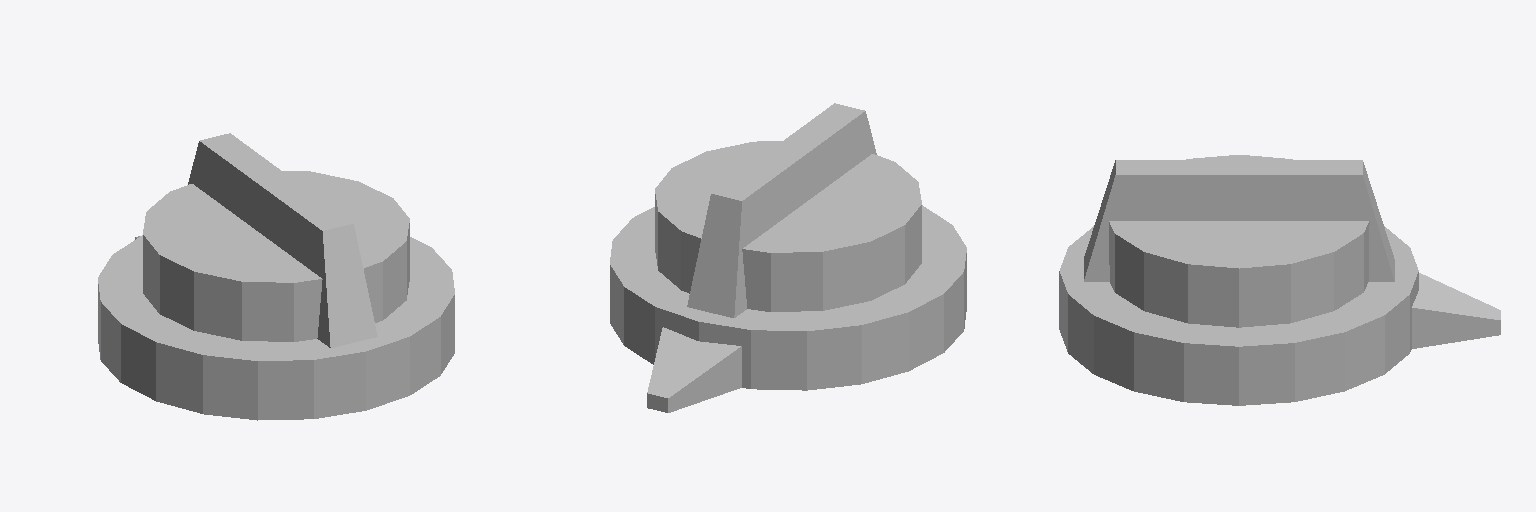
Rendered from key.obj.
3 views of the same model, side by side, from view 1: azimuth 30°, elevation 25°; view 2: azimuth 150°, elevation 25°; view 3: azimuth 270°, elevation 25° (orthographic).
Parts seen in each view (by area): view 1: Object_2, Object_3; view 2: Object_2, Object_3; view 3: Object_2, Object_3.
Part boxes in pixels (left/top/right/bottom): Object_2: left=98, top=133, right=454, bottom=420; Object_3: left=135, top=171, right=409, bottom=341; Object_2: left=610, top=103, right=966, bottom=390; Object_3: left=647, top=141, right=921, bottom=412; Object_2: left=1059, top=160, right=1418, bottom=405; Object_3: left=1109, top=155, right=1500, bottom=348.
Bounding box in the file's own units: 22 × 12 × 27.